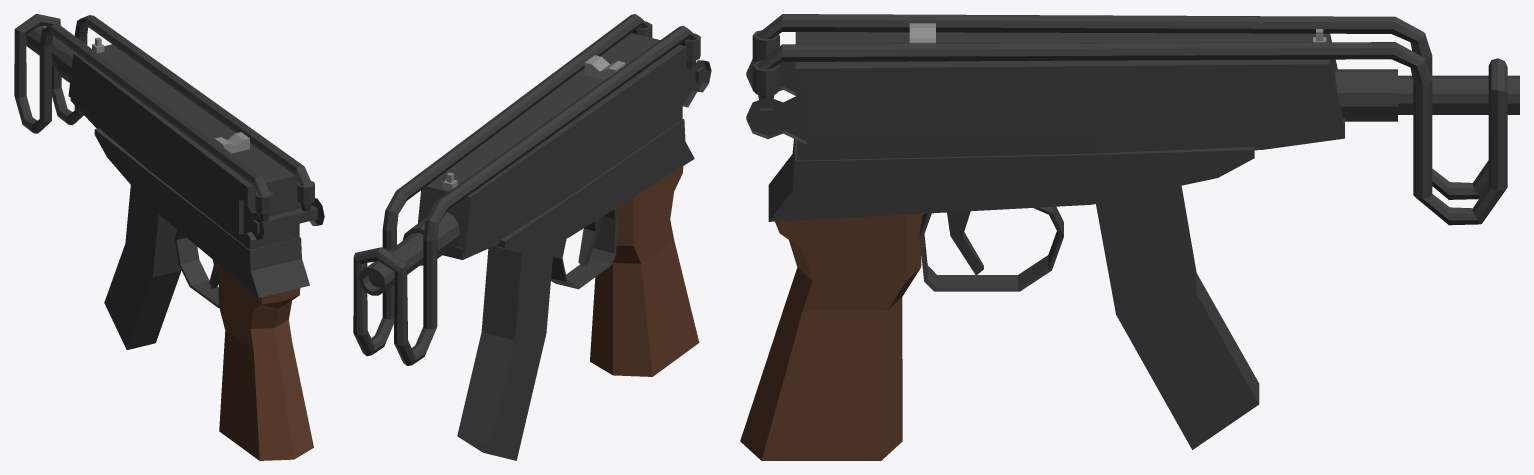
Rendered from Submachine Gun.glb.
3 renders of one model, left to right at view 1: azimuth 30°, elevation 25°; view 2: azimuth 150°, elevation 25°; view 3: azimuth 270°, elevation 25°, orthographic. The views are drawn at different scales.
Parts seen in each view (by area): view 1: SMG_05_Cube.005; view 2: SMG_05_Cube.005; view 3: SMG_05_Cube.005.
Part boxes in pixels (box(x1,y1,x2,y2)): SMG_05_Cube.005: box(14, 14, 324, 460); SMG_05_Cube.005: box(353, 14, 711, 460); SMG_05_Cube.005: box(740, 14, 1519, 460).
Bounding box in the file's own units: 0.6513 × 2.65 × 4.55.
